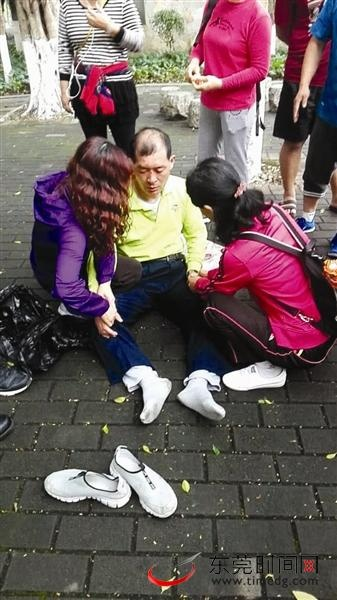falling: (85, 124, 222, 435)
